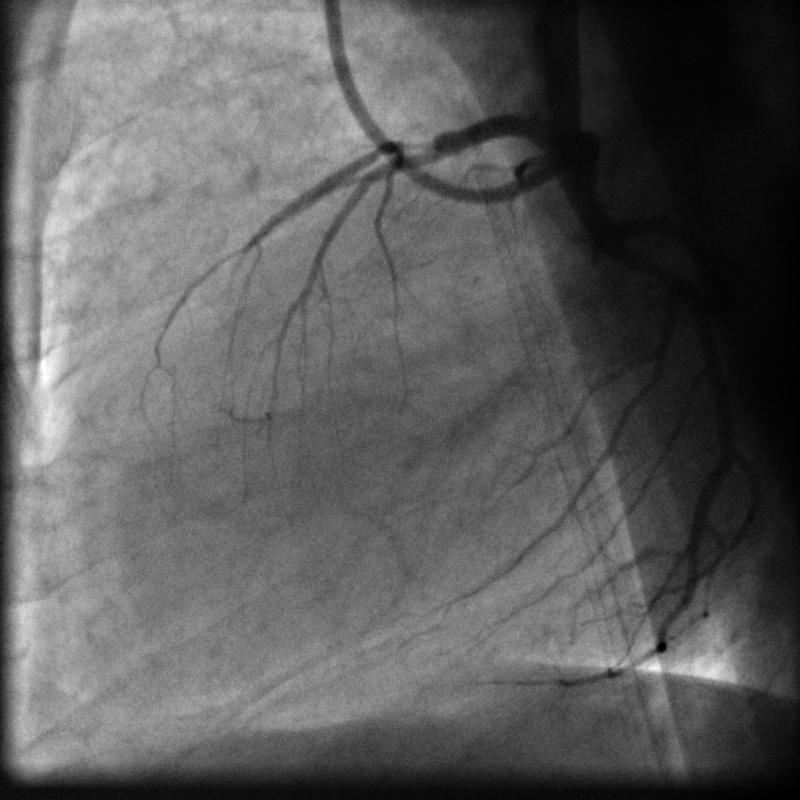Stenosis: (393, 131, 453, 171)
